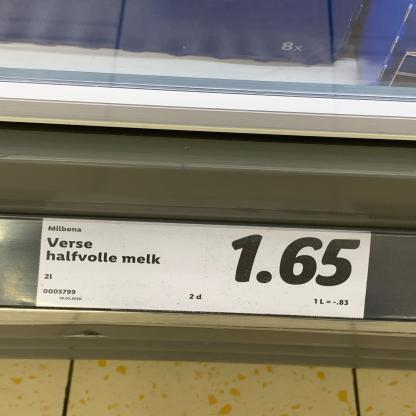prtg: (37, 219, 372, 320)
